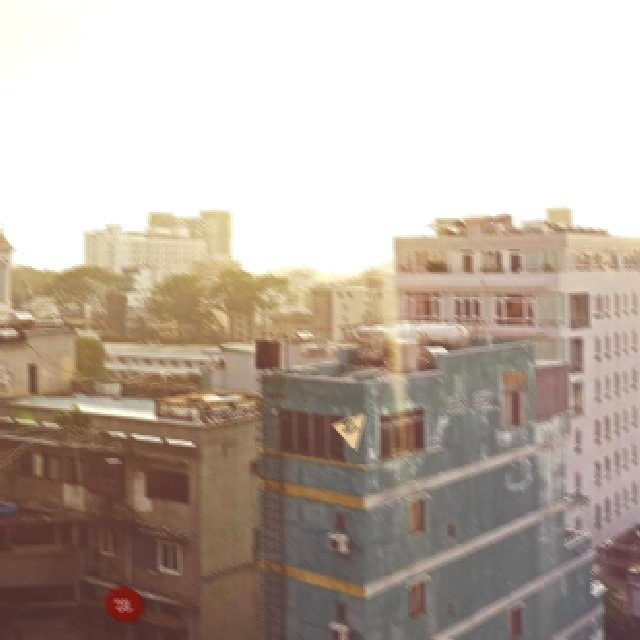FAKE_STOP: (104, 587, 145, 624)
NOT_YIELD: (331, 413, 367, 454)
